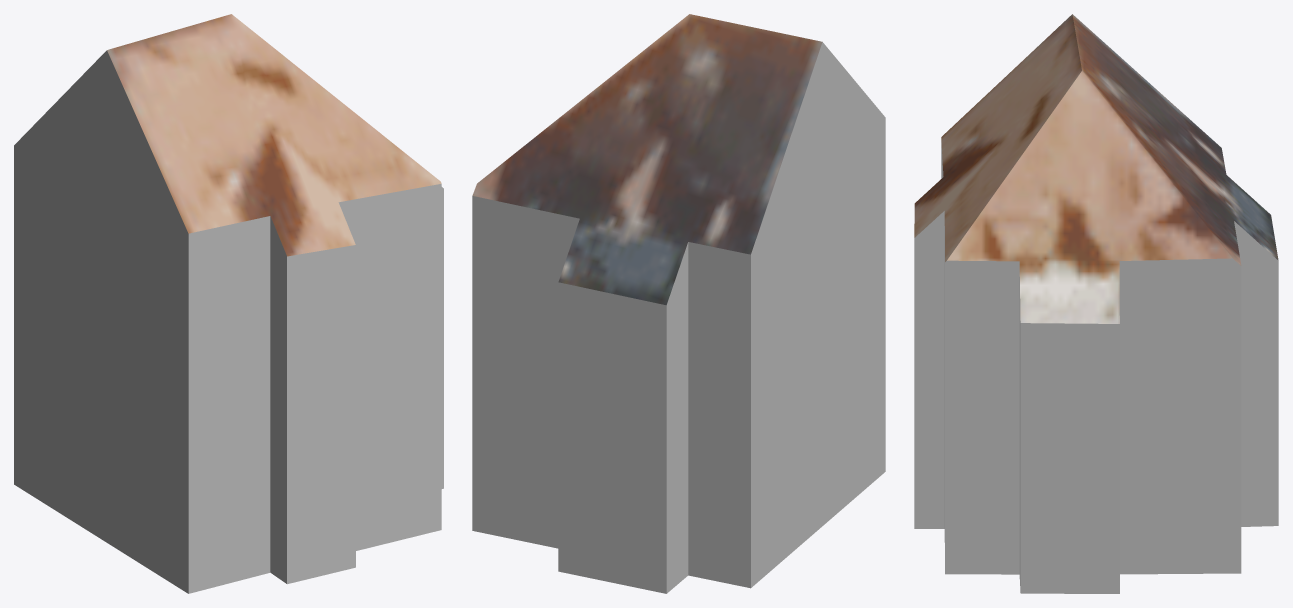
The model's file is DEBW_0010007Tx9C.gltf.
3 views of the same model, side by side, from view 1: azimuth 30°, elevation 25°; view 2: azimuth 150°, elevation 25°; view 3: azimuth 270°, elevation 25° (orthographic). The views are drawn at different scales.
Parts seen in each view (by area): view 1: Z_UP; view 2: Z_UP; view 3: Z_UP.
Part boxes in pixels (box(x1,y1,x2,y2)): Z_UP: box(14, 14, 443, 593); Z_UP: box(472, 14, 885, 593); Z_UP: box(914, 14, 1278, 593).
Bounding box in the file's own units: 14.13 × 20.89 × 15.51.
2 materials, 1 textured.
